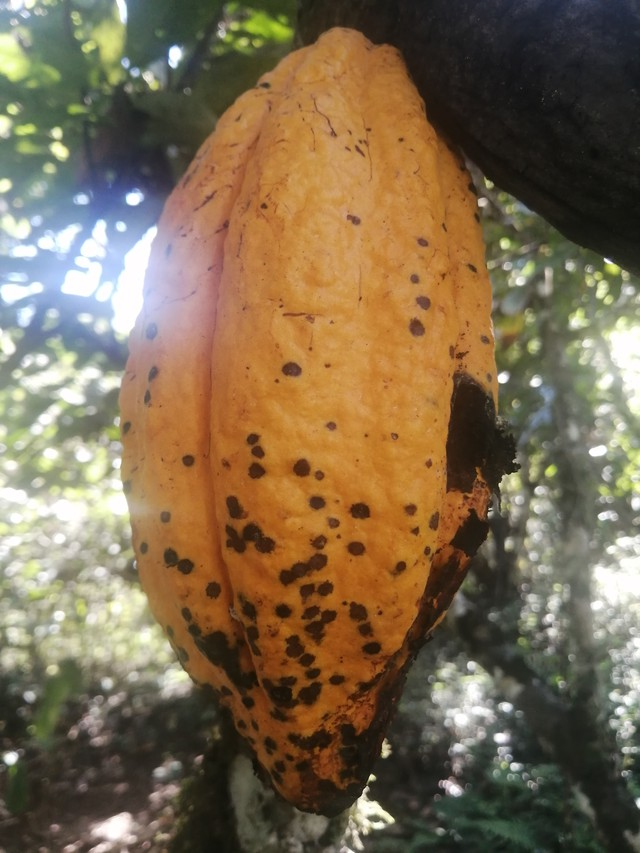carmenta foraseminis: (119, 23, 510, 827)
